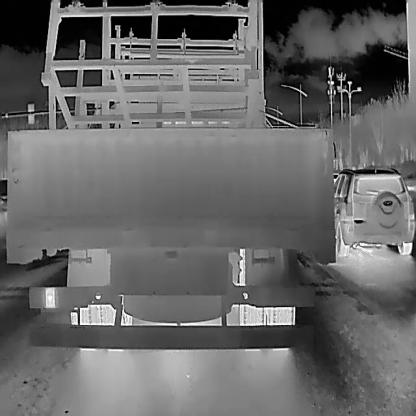car: (332, 166, 414, 255)
truck: (3, 37, 338, 351)
